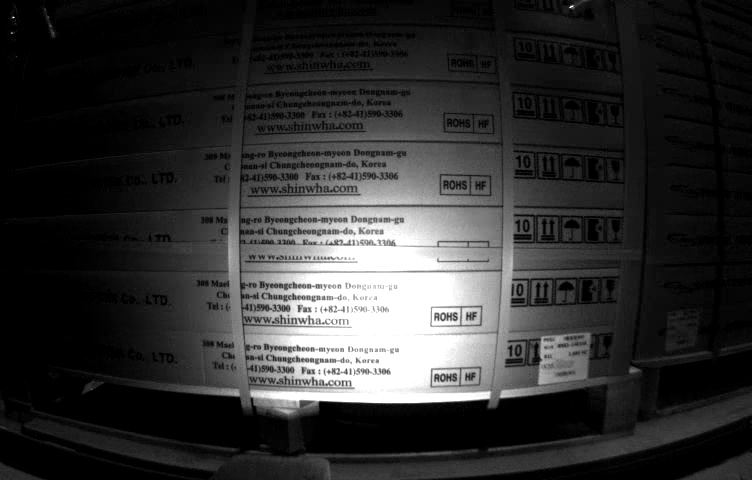True Barcode: (540, 333, 591, 383), (665, 307, 699, 349)
